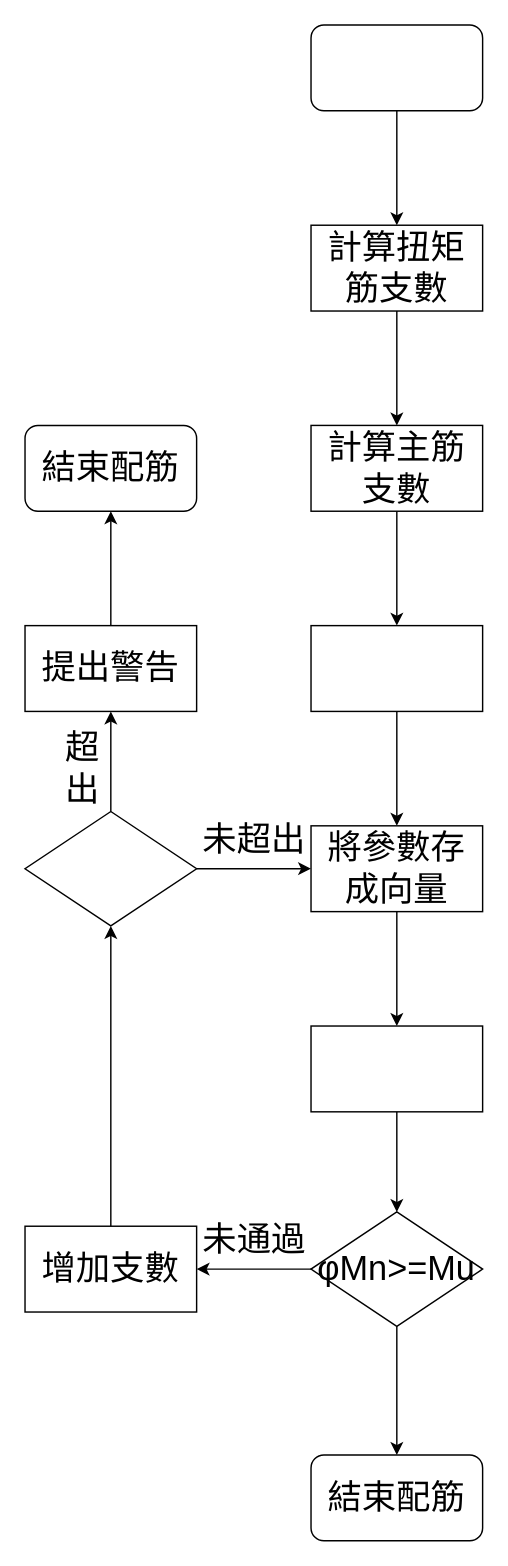
The diagram is 508 pixels wide and 1566 high, and some of its shapes have lost their labels. The centre of each missing label's shape, as x and y in pixels:
"初始化 參數" goes at pixel 396 667.
"是否超出最大量" goes at pixel 110 868.
"算M" goes at pixel 396 1068.
"開始配筋" goes at pixel 396 67.
